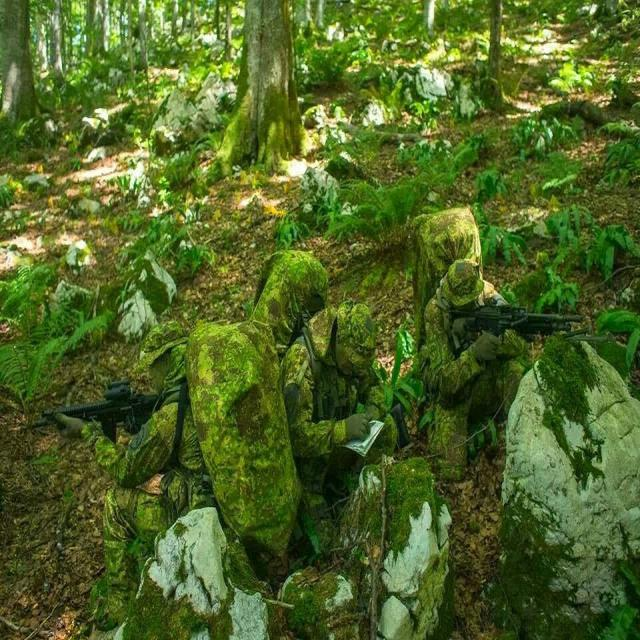Camouflage: (22, 321, 303, 612), (409, 207, 586, 477), (247, 248, 394, 558)
